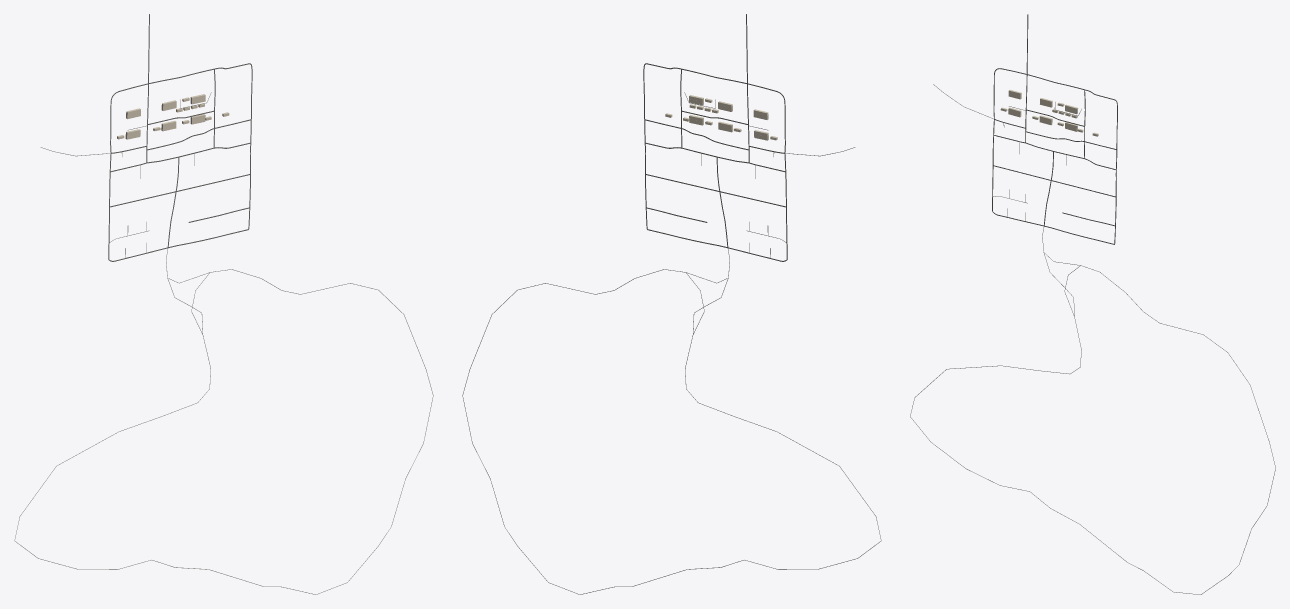
The model's file is historic-palestine-14_35_3564_3298.glb.
3 renders of one model, left to right at view 1: azimuth 30°, elevation 25°; view 2: azimuth 150°, elevation 25°; view 3: azimuth 330°, elevation 25°, orthographic. The views are drawn at different scales.
Visible parts, largest first — view 1: Road .002, Road .021; view 2: Road .002, Road .021; view 3: Road .002, Road .021.
Part boxes in pixels (left/top/right/bottom): Road .002: left=14, top=248, right=433, bottom=594; Road .021: left=108, top=63, right=252, bottom=261; Road .002: left=462, top=248, right=881, bottom=594; Road .021: left=643, top=63, right=787, bottom=261; Road .002: left=910, top=226, right=1275, bottom=594; Road .021: left=992, top=68, right=1117, bottom=244.
Size of the model in its own units: 1355 by 1921 by 8.7.
